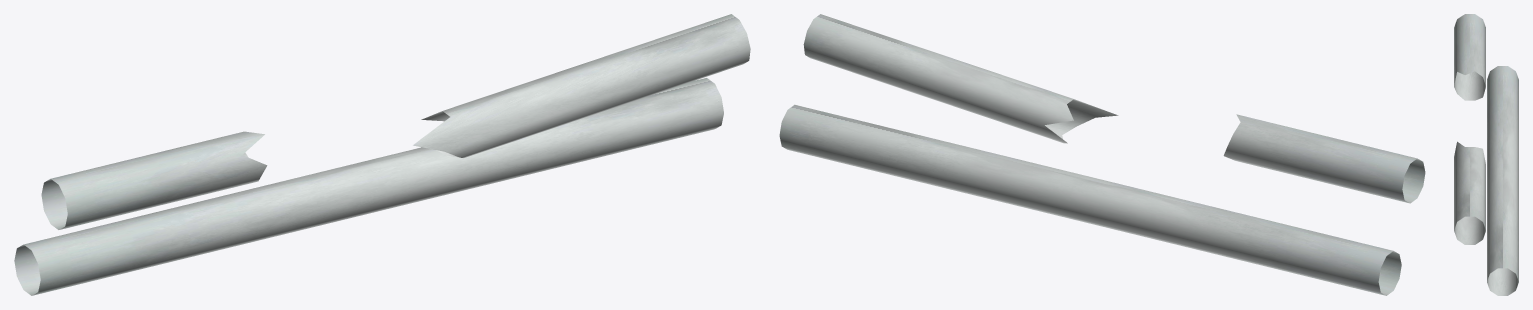
File: light_02.fbx
The picture shows the model from 3 angles, left to right: view 1: azimuth 30°, elevation 25°; view 2: azimuth 150°, elevation 25°; view 3: azimuth 270°, elevation 25°; orthographic projection. The views are drawn at different scales.
Parts seen in each view (by area): view 1: Object014; view 2: Object014; view 3: Object014.
Part boxes in pixels (x1,y1,x2,y2): Object014: (14,14,750,295); Object014: (779,14,1425,295); Object014: (1454,14,1518,295).
Size of the model in its own units: 230 by 42.15 by 31.17.
